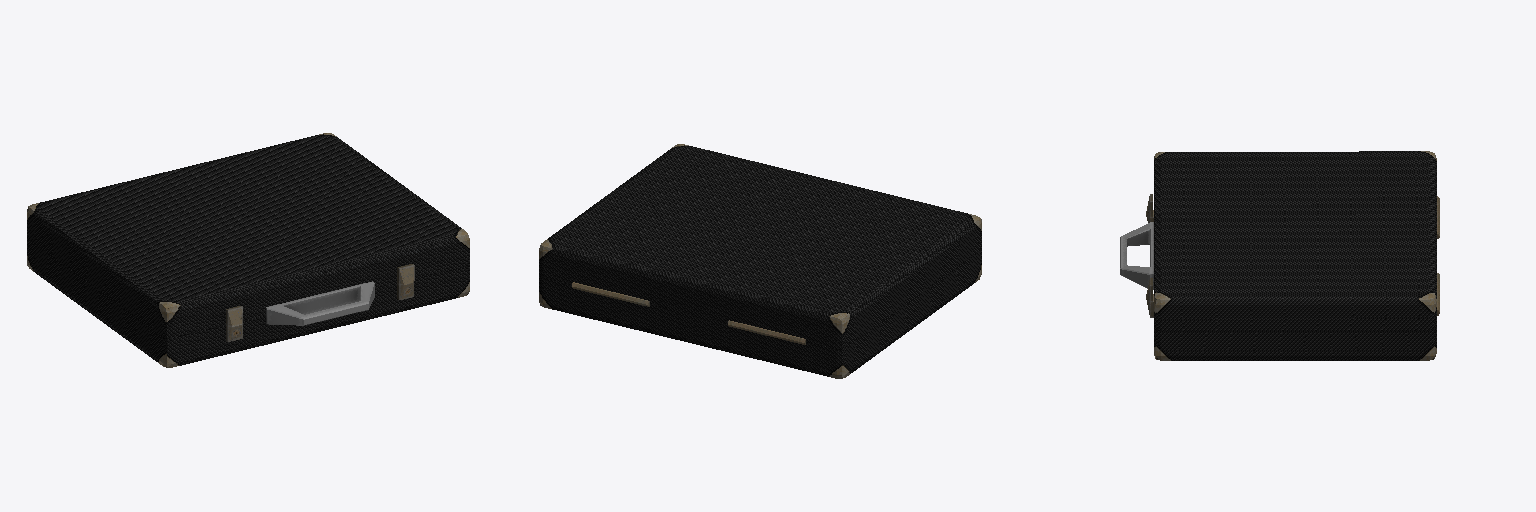
3 views of the same model, side by side, from view 1: azimuth 30°, elevation 25°; view 2: azimuth 150°, elevation 25°; view 3: azimuth 270°, elevation 25° (orthographic).
Parts seen in each view (by area): view 1: suitcase_top, suitcase_bottom; view 2: suitcase_top, suitcase_bottom; view 3: suitcase_top, suitcase_bottom.
Boxes of the visible parts, <box> form: suitcase_top: <box>27,133,469,338</box>; suitcase_bottom: <box>27,238,469,367</box>; suitcase_top: <box>539,144,981,349</box>; suitcase_bottom: <box>539,248,981,378</box>; suitcase_top: <box>1146,151,1436,330</box>; suitcase_bottom: <box>1120,196,1439,360</box>.
Size of the model in its own units: 100 by 20.02 by 90.54.
Materials: 1 (1 with a texture image).